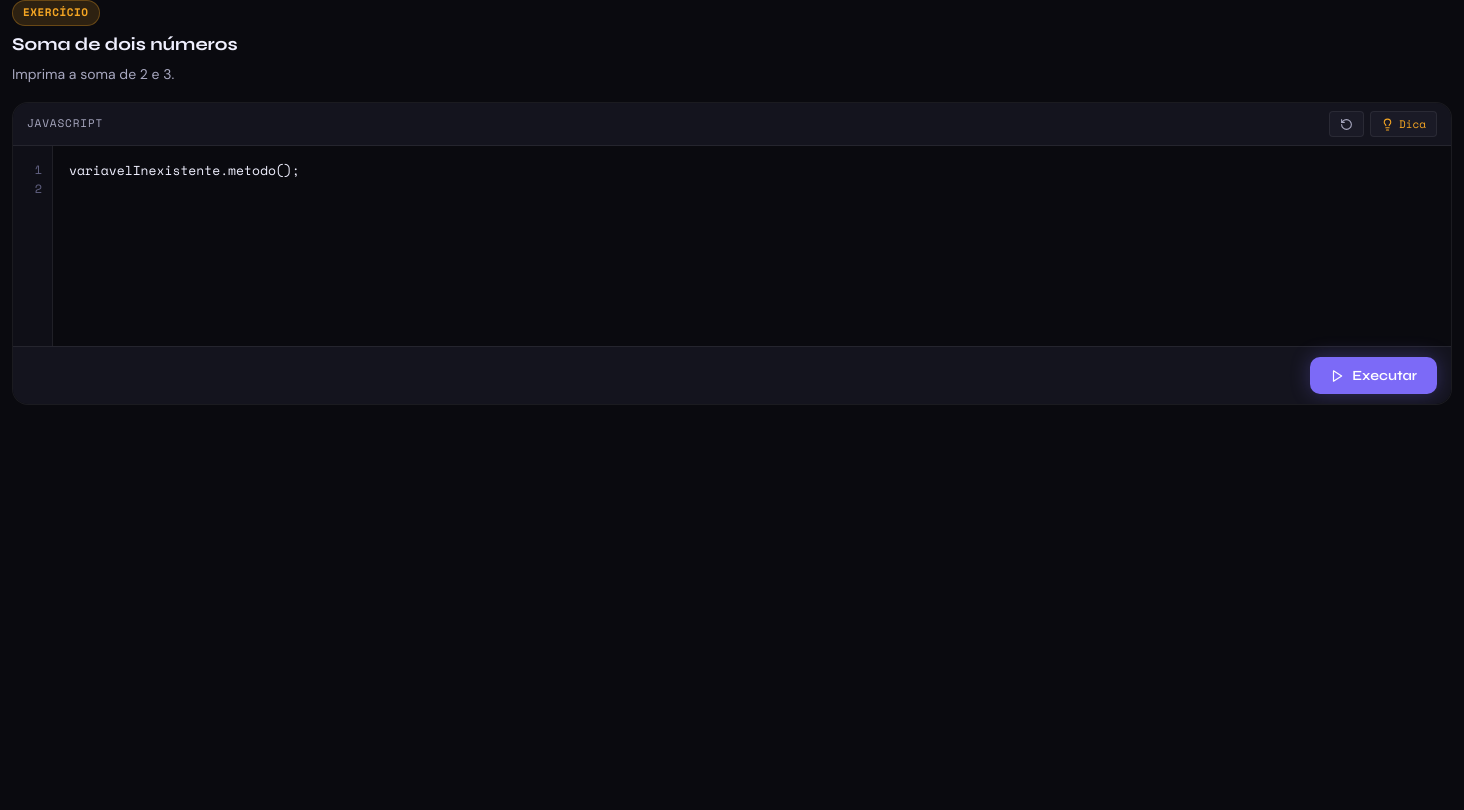
Test: Exercise component › erro de runtime é diagnosticado e exibido
Click the button "Executar" at (1374, 376), box [1310,357,1437,394]
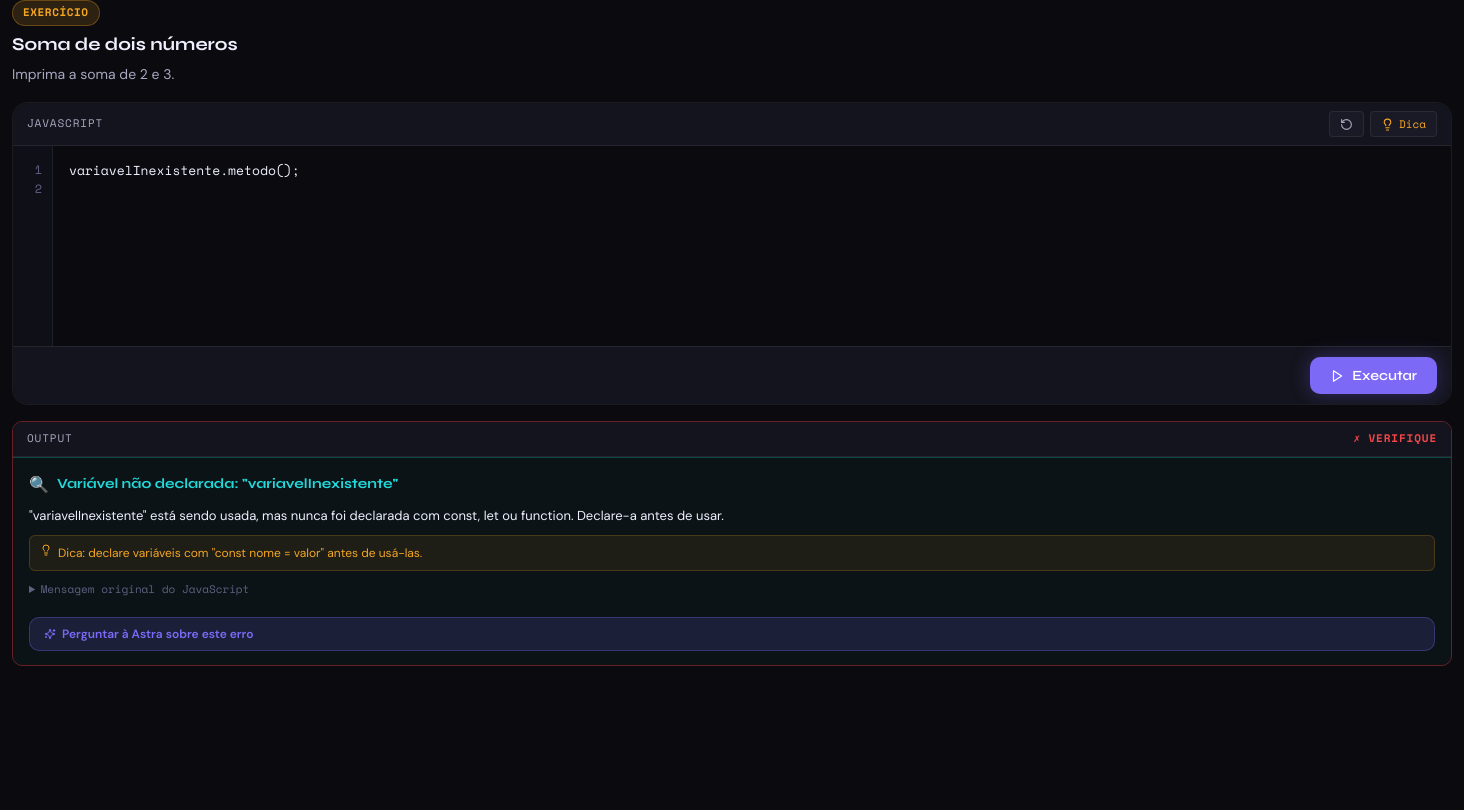
Now the element with class "output-runtime-error" is shown, box [13,457,1451,664]
